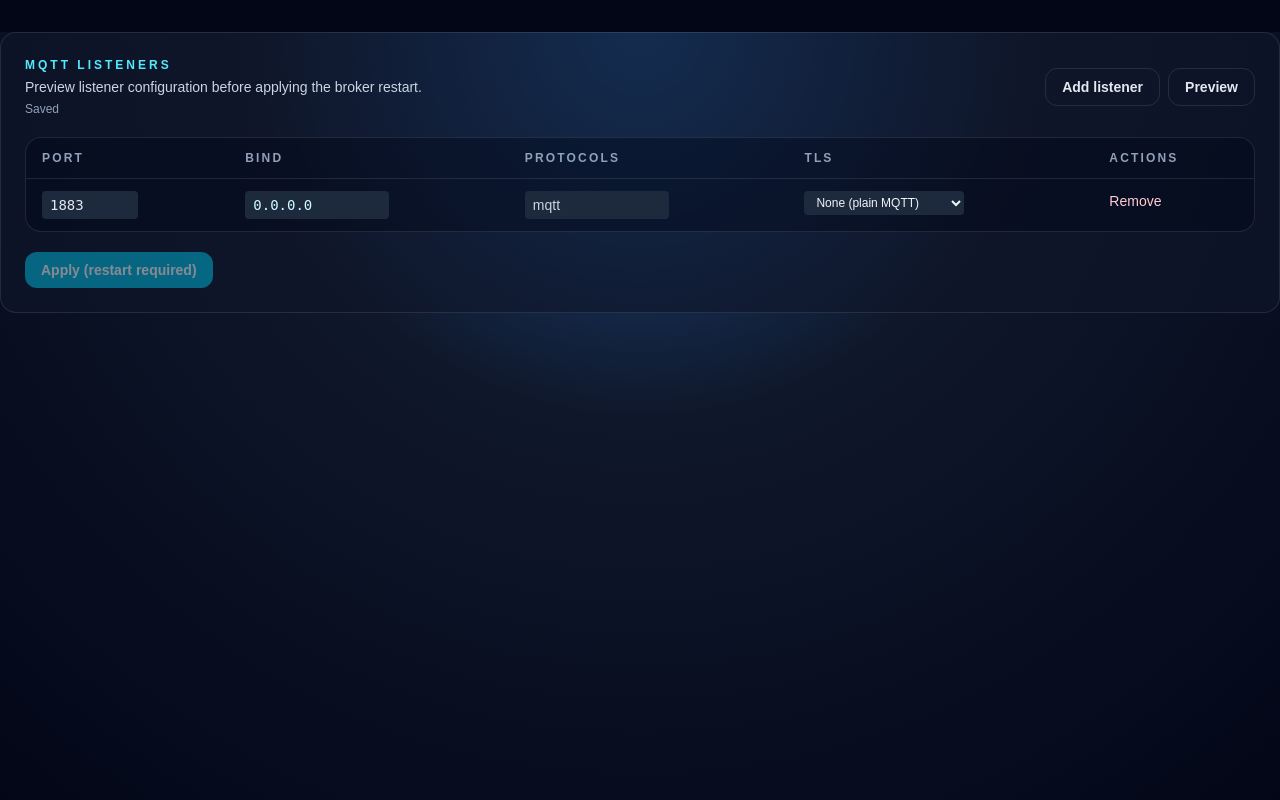
Test case: ListenersPanel editor › adds, edits, and deletes listener rows and marks edits dirty
Check: the field named "Port mqtt" is shown, box [42,191,138,219]
Check: the text "Saved" is shown, box [25,102,59,116]
Click the button "Add listener".
click(1103, 87)  # box [1045,68,1160,106]
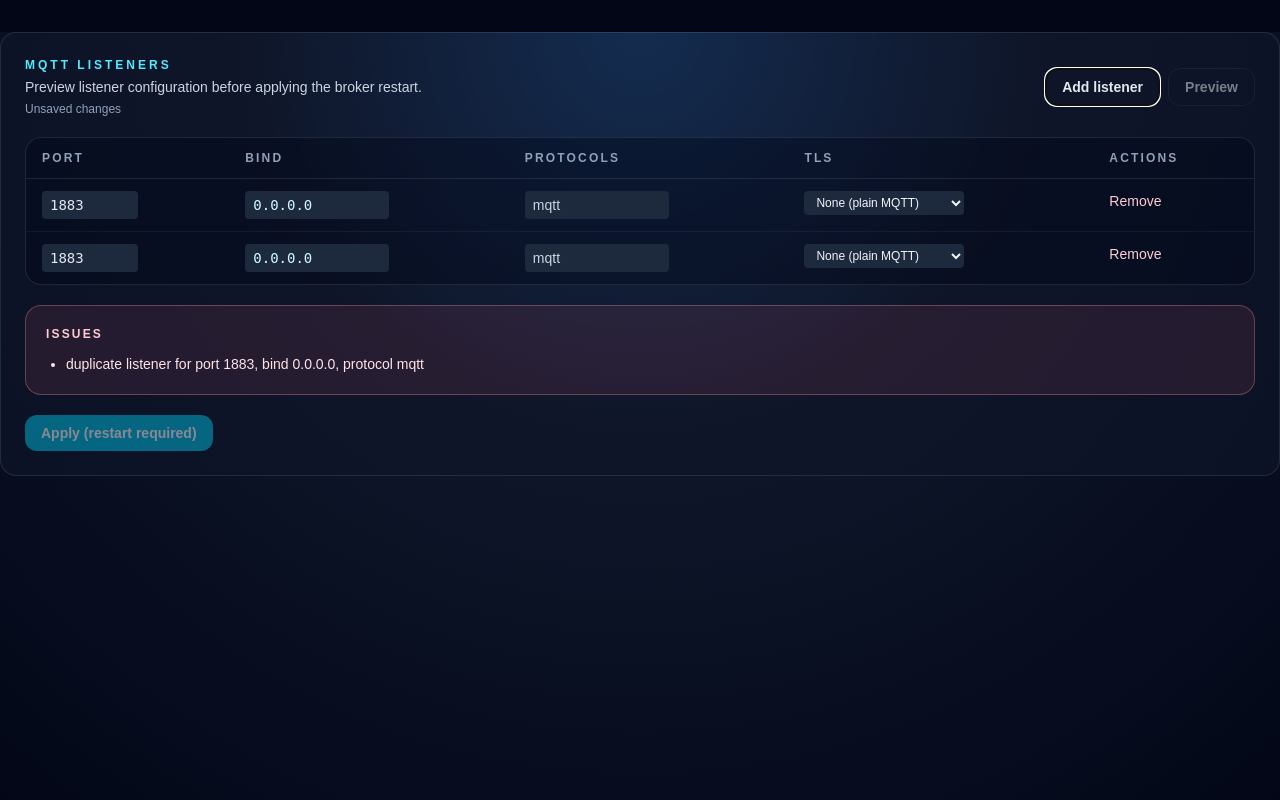
Check: the number of fields named "Port" is 2
Replace the text in the field named "Port" with "1884" at (90, 205), box [42,191,138,219]
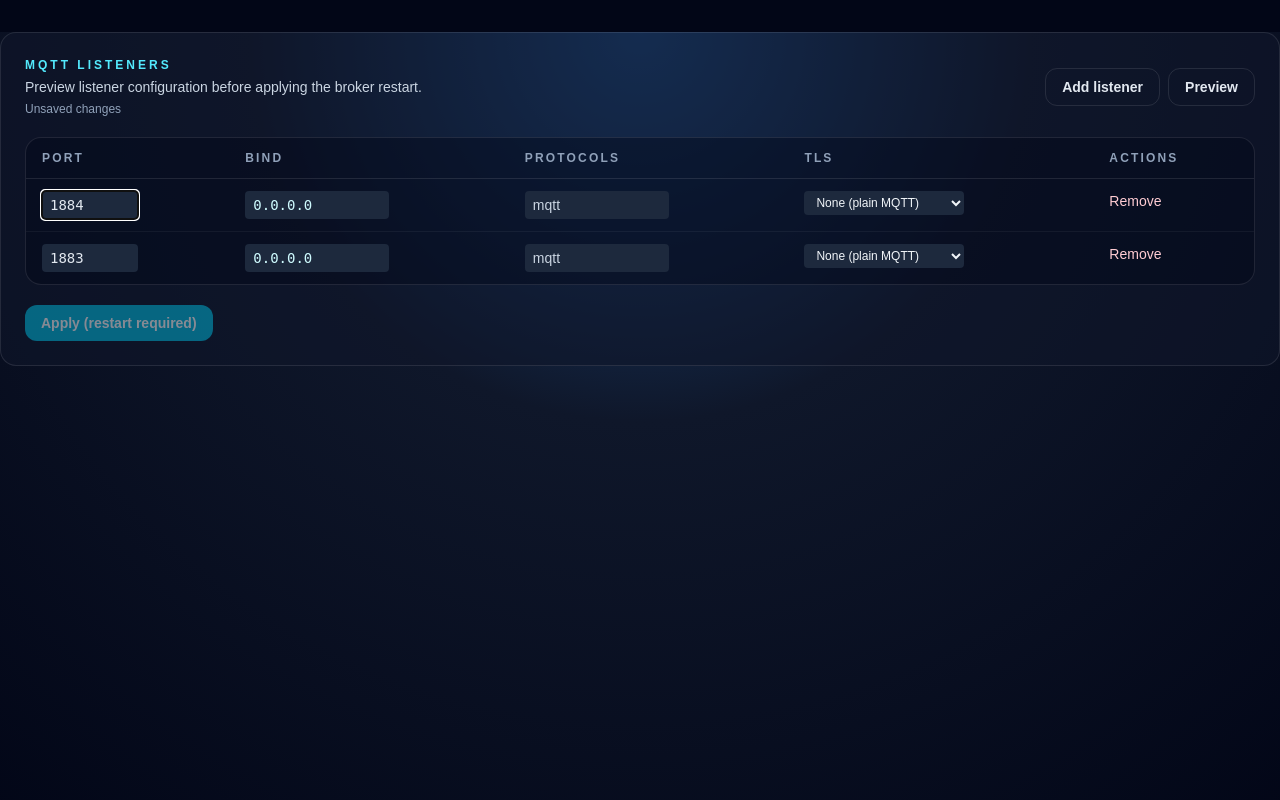
Check: the text "Unsaved changes" is shown, box [25,102,121,116]
Click the button with aria-label "Remove listener mqtt".
click(1135, 201)  # box [1109,191,1161,211]
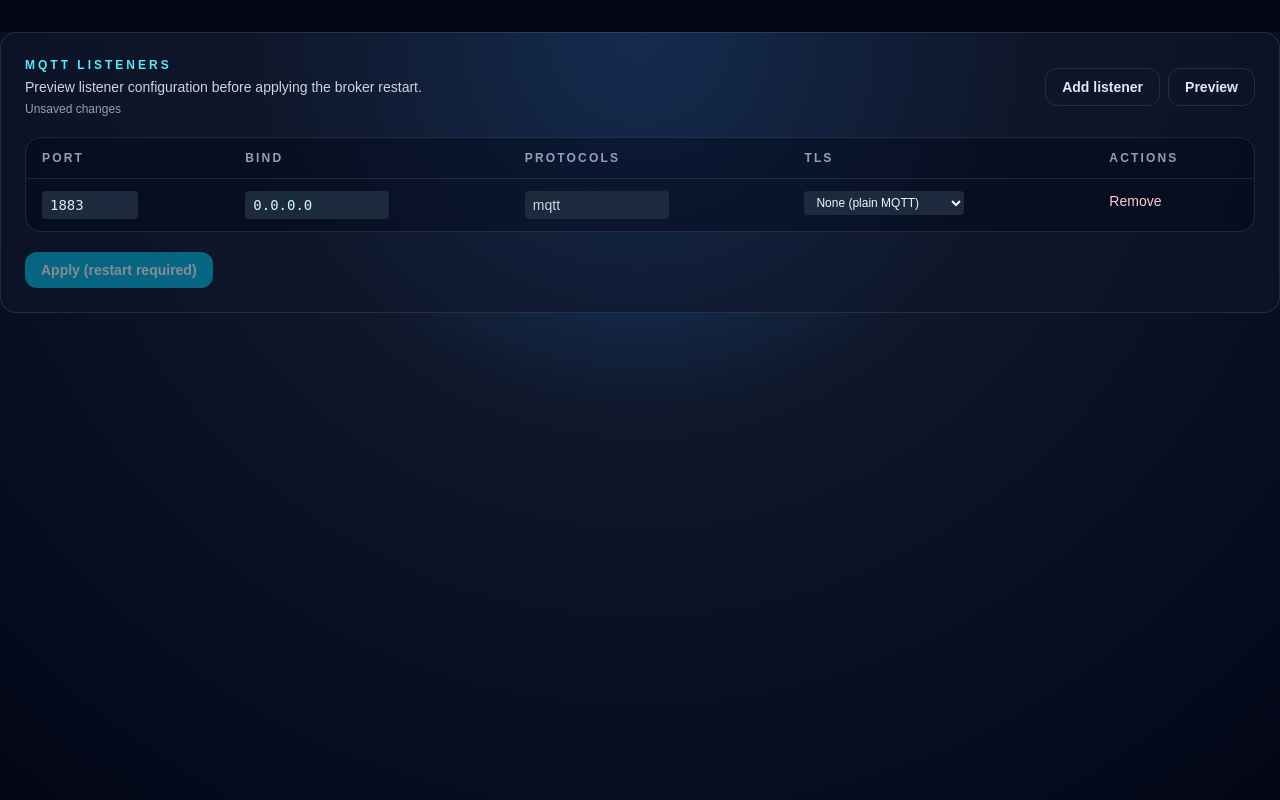
Check: the number of fields named "Port" is 1, box [42,191,138,219]
